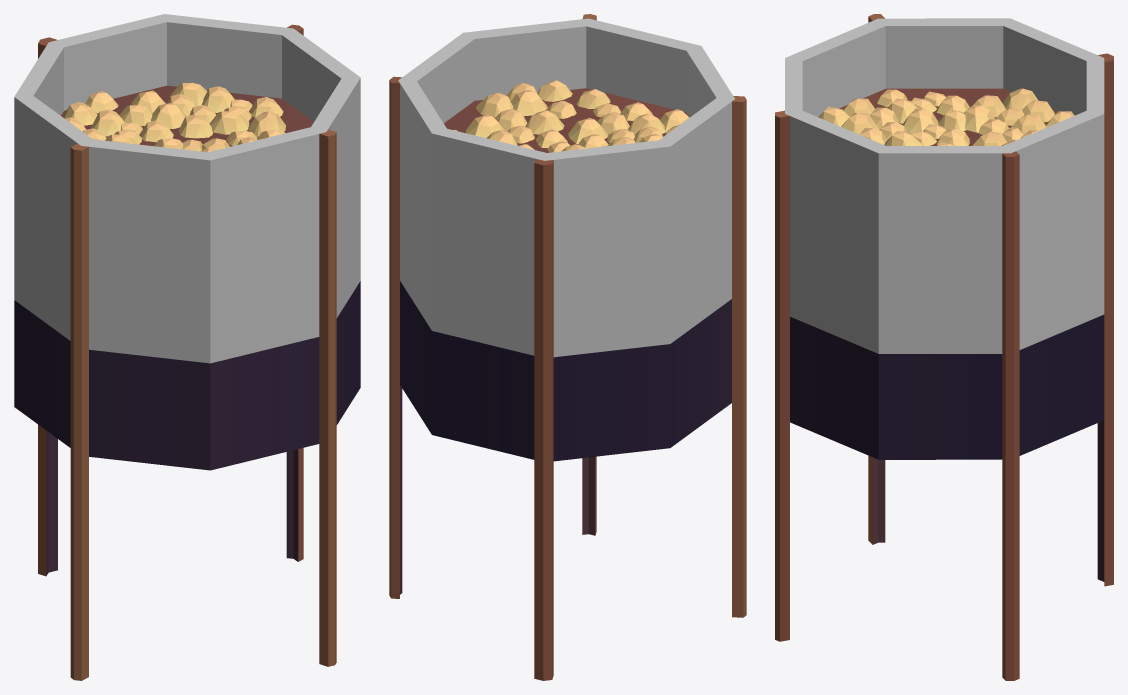
File: Garden_UkeaPlanter02.fbx
3 renders of one model, left to right at view 1: azimuth 30°, elevation 25°; view 2: azimuth 150°, elevation 25°; view 3: azimuth 270°, elevation 25°, orthographic. The views are drawn at different scales.
Parts seen in each view (by area): view 1: Plant Pot.002; view 2: Plant Pot.002; view 3: Plant Pot.002.
Part boxes in pixels (bbox=[...]): Plant Pot.002: bbox=[14, 14, 360, 680]; Plant Pot.002: bbox=[389, 14, 746, 680]; Plant Pot.002: bbox=[775, 14, 1113, 680].
Size of the model in its own units: 30.04 by 51.39 by 30.11.
